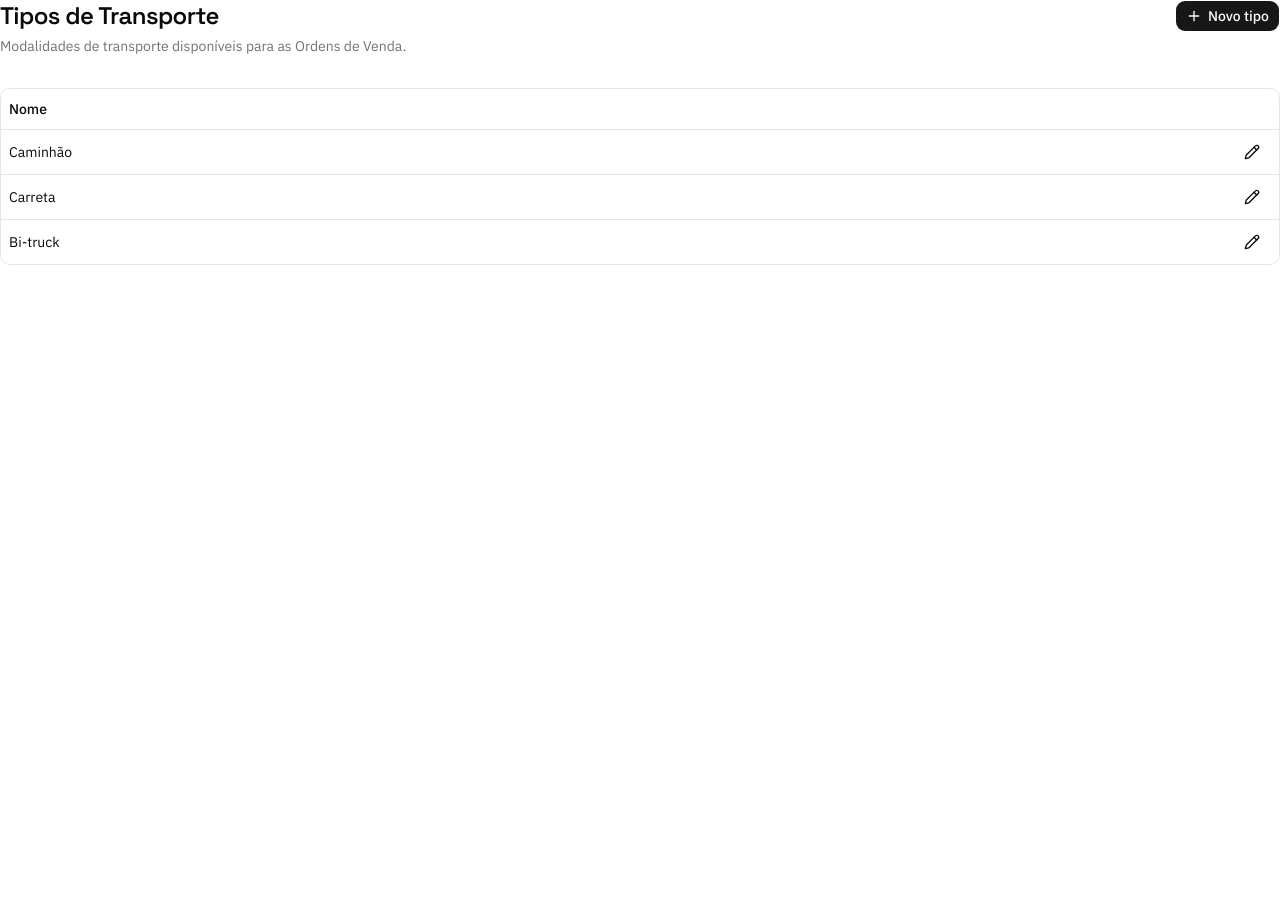
Test case: TransportTypesView (integração) › cria um novo tipo de transporte e o exibe na tabela
Expected: the text "Caminhão" is shown, 1,129 -> 1215,174
Click the button "Novo tipo" at point(1228, 16), box 1175,0 -> 1279,32
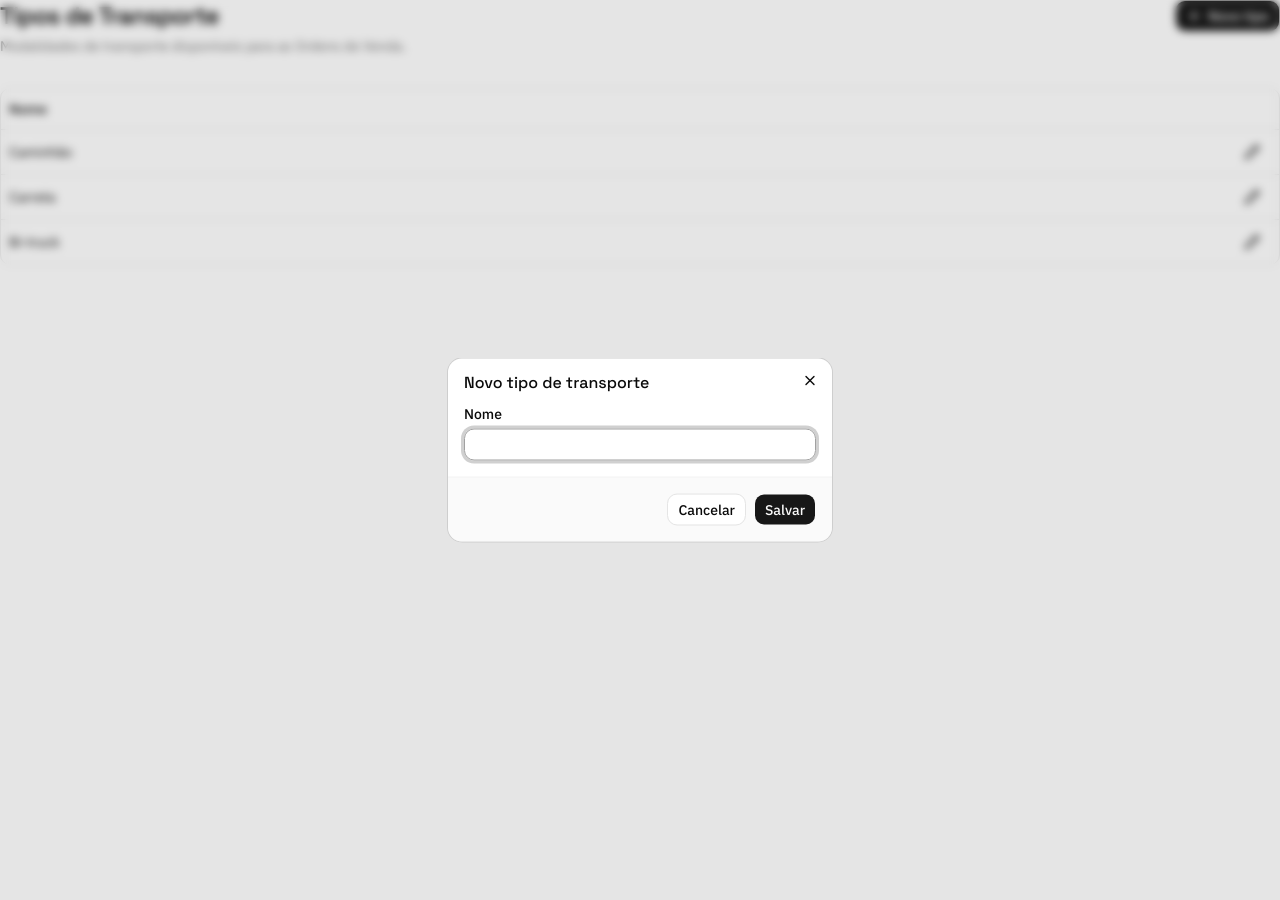
Type "Van" into the field labelled "Nome" at point(640, 444), box 464,428 -> 816,460
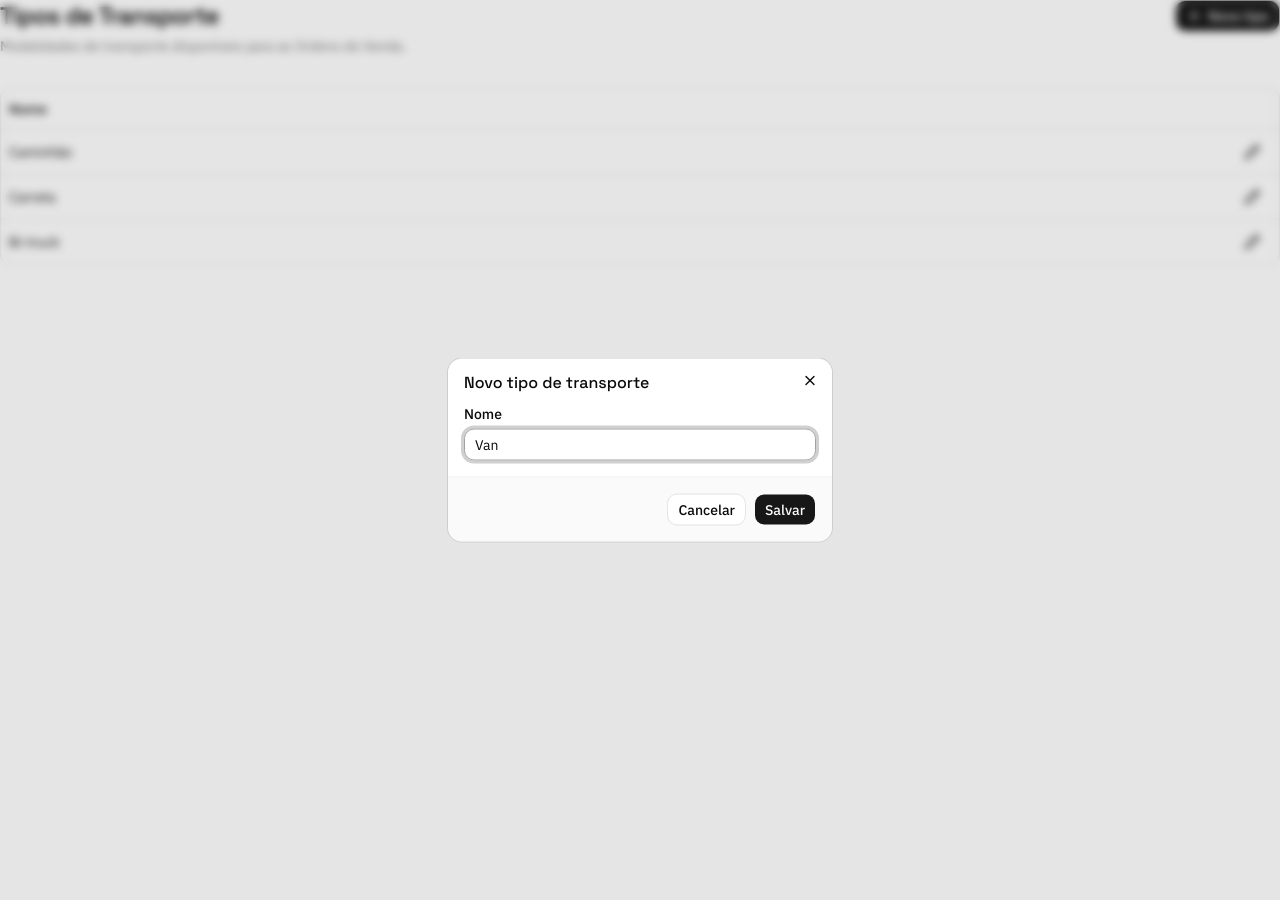
Click the button "Salvar" at point(785, 510), box 754,494 -> 816,526
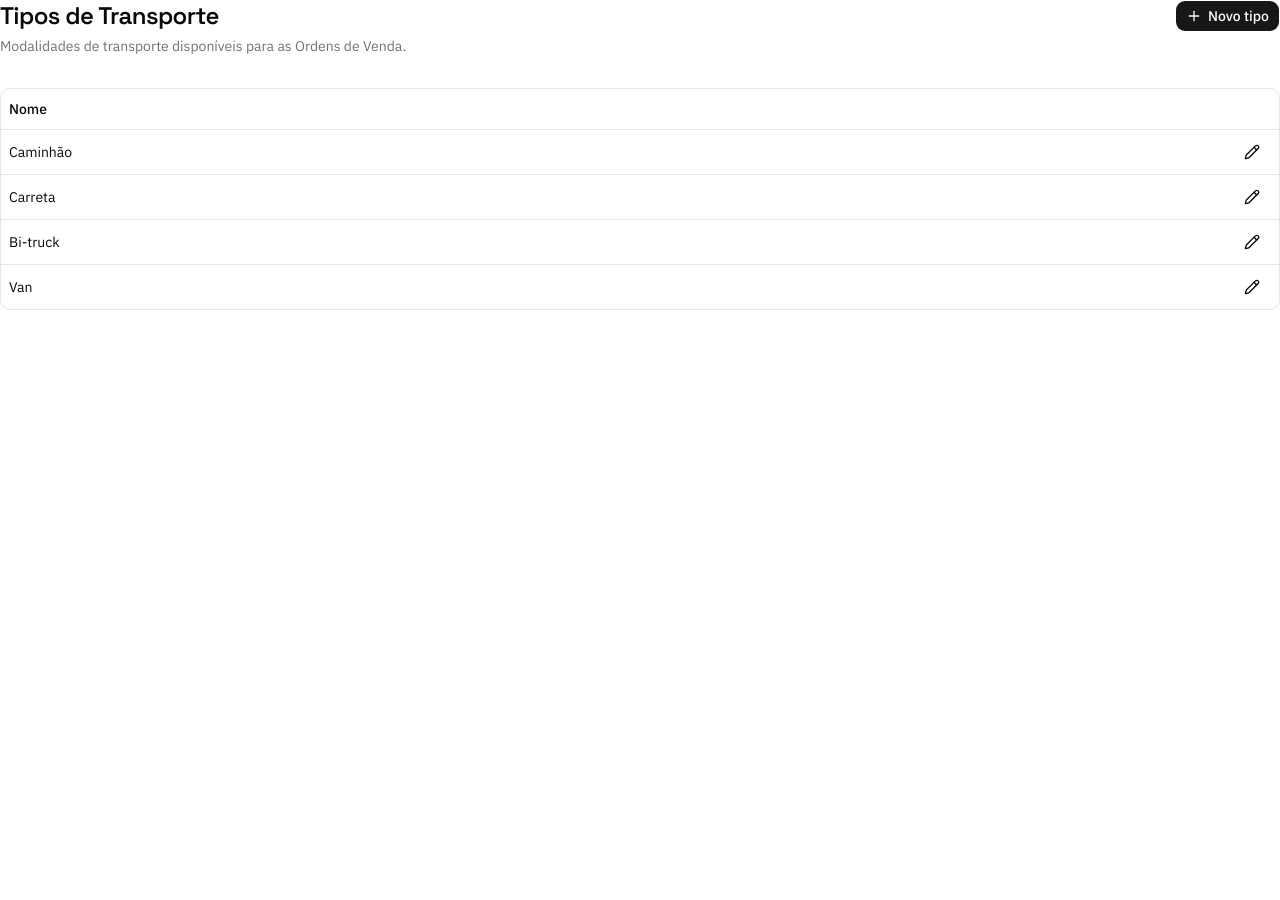
Now the text "Van" is shown, box 1,264 -> 1215,308
